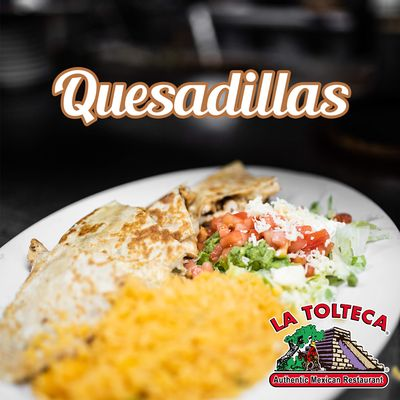sandwich: (1, 159, 398, 400)
